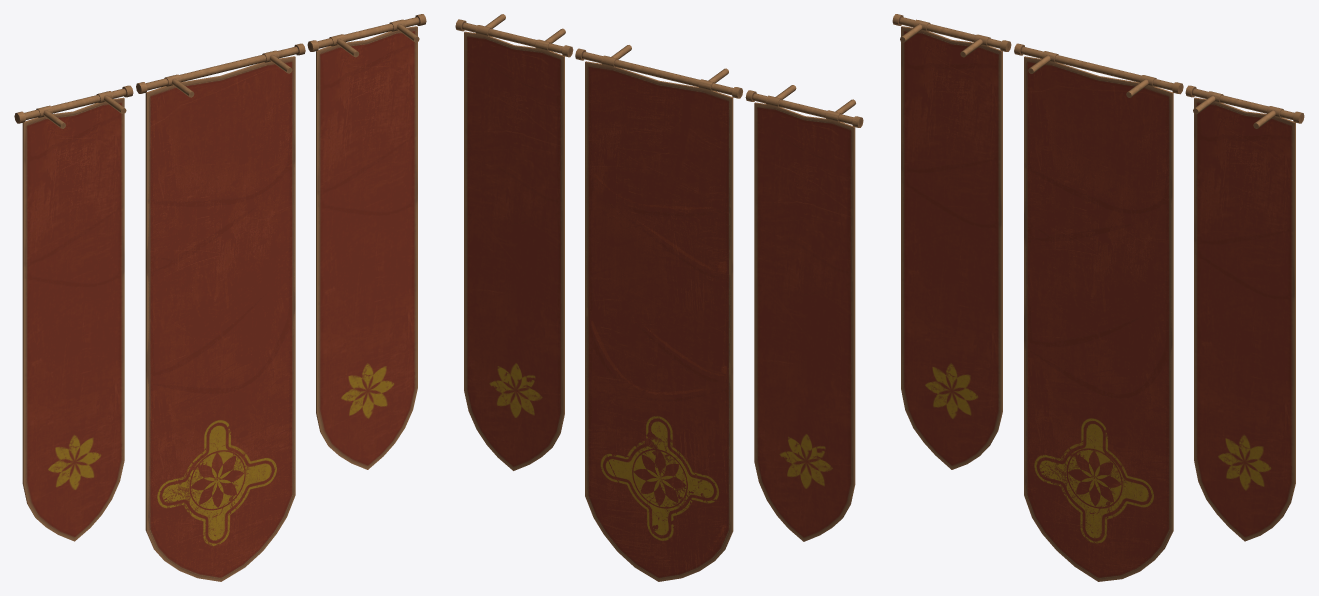
Rendered from ARC0510110.fbx.
3 renders of one model, left to right at view 1: azimuth 30°, elevation 25°; view 2: azimuth 150°, elevation 25°; view 3: azimuth 330°, elevation 25°, orthographic.
Parts seen in each view (by area): view 1: smARC0510110; view 2: smARC0510110; view 3: smARC0510110.
Boxes of the visible parts, x1,y1,x2,y2 form: smARC0510110: (14,14,426,581); smARC0510110: (455,14,863,581); smARC0510110: (892,14,1304,581).
Size of the model in its own units: 371 by 452 by 35.13.
Materials: 1 (1 with a texture image).
